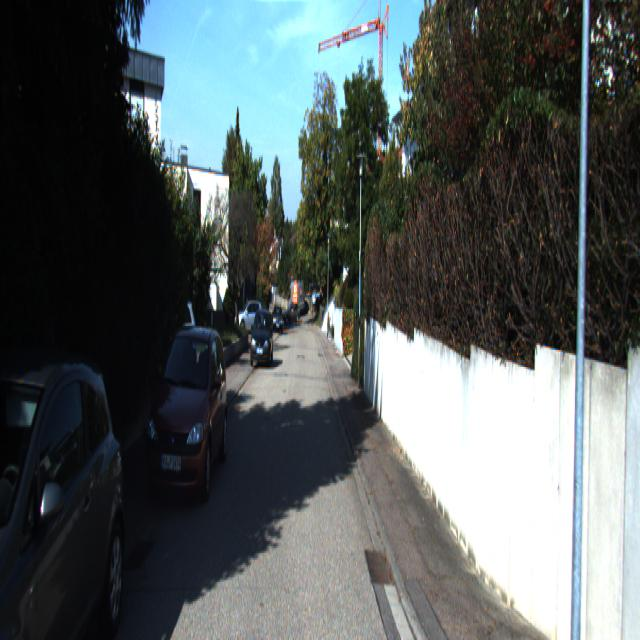Car: (0, 348, 128, 639), (142, 316, 228, 508), (250, 309, 275, 369)
